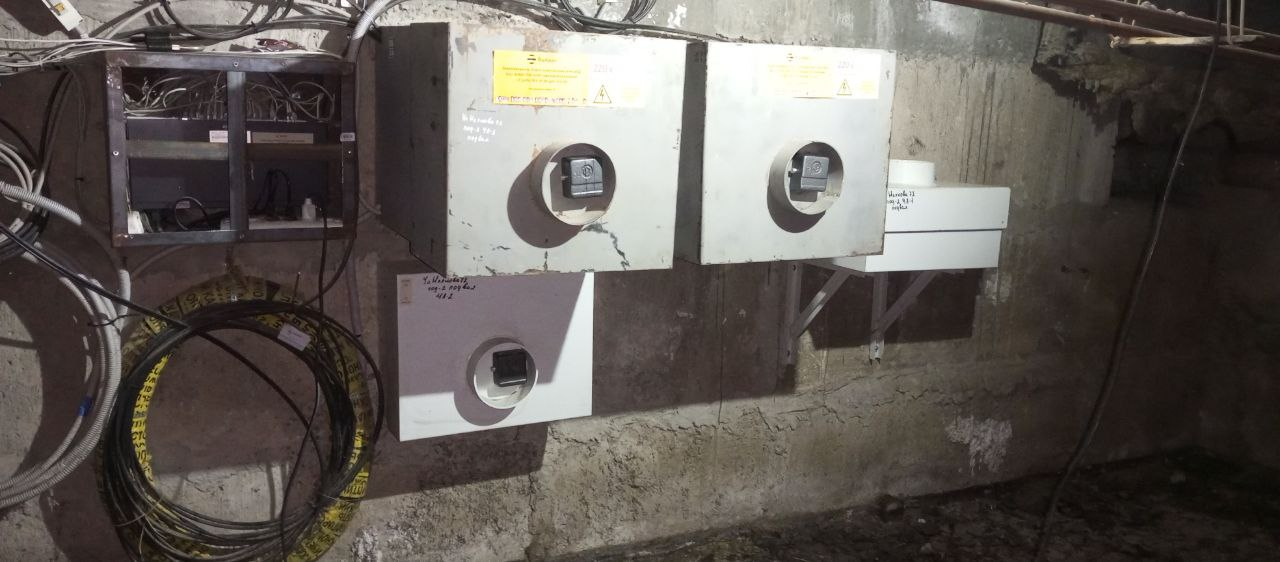shta-3: (376, 257, 597, 446)
shta-9: (372, 15, 695, 283), (700, 36, 899, 268)
shta-ps: (799, 155, 1015, 281)
